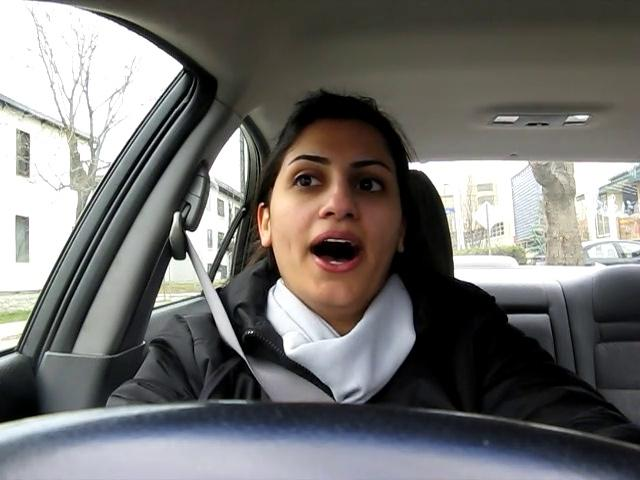open_eyeL: (280, 164, 336, 201)
open_eyeR: (342, 170, 405, 203)
yawn: (287, 225, 379, 276)
